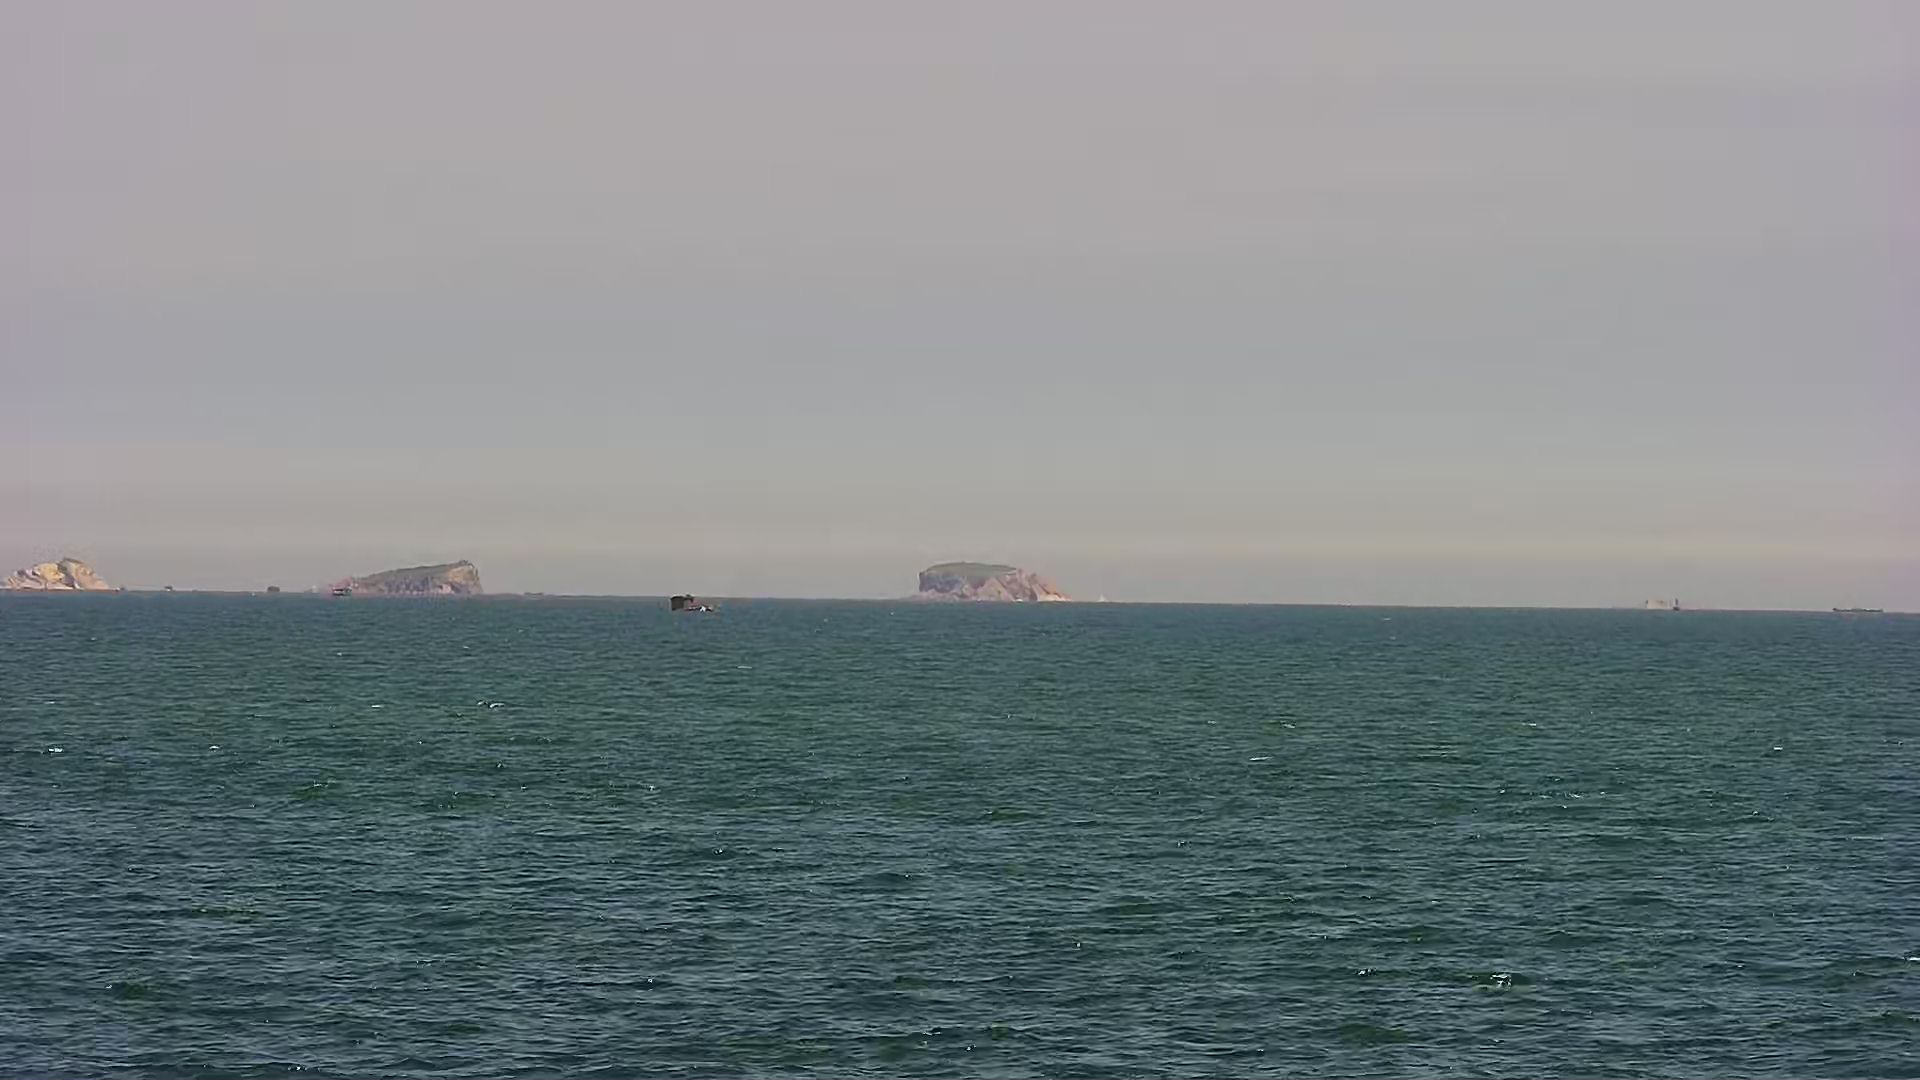platform: (661, 588, 731, 618)
rock: (895, 553, 1083, 605), (309, 553, 514, 593), (1, 553, 129, 597)
